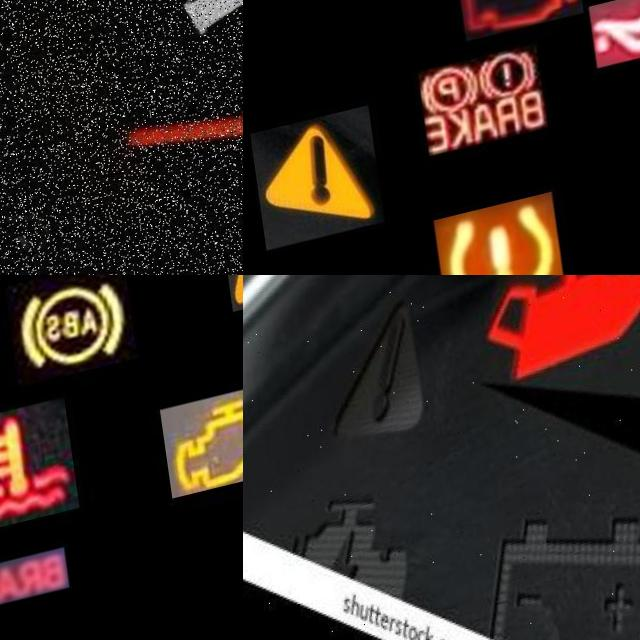Central Warning lamp: (243, 116, 370, 256)
Engine cooling system: (0, 405, 64, 539)
